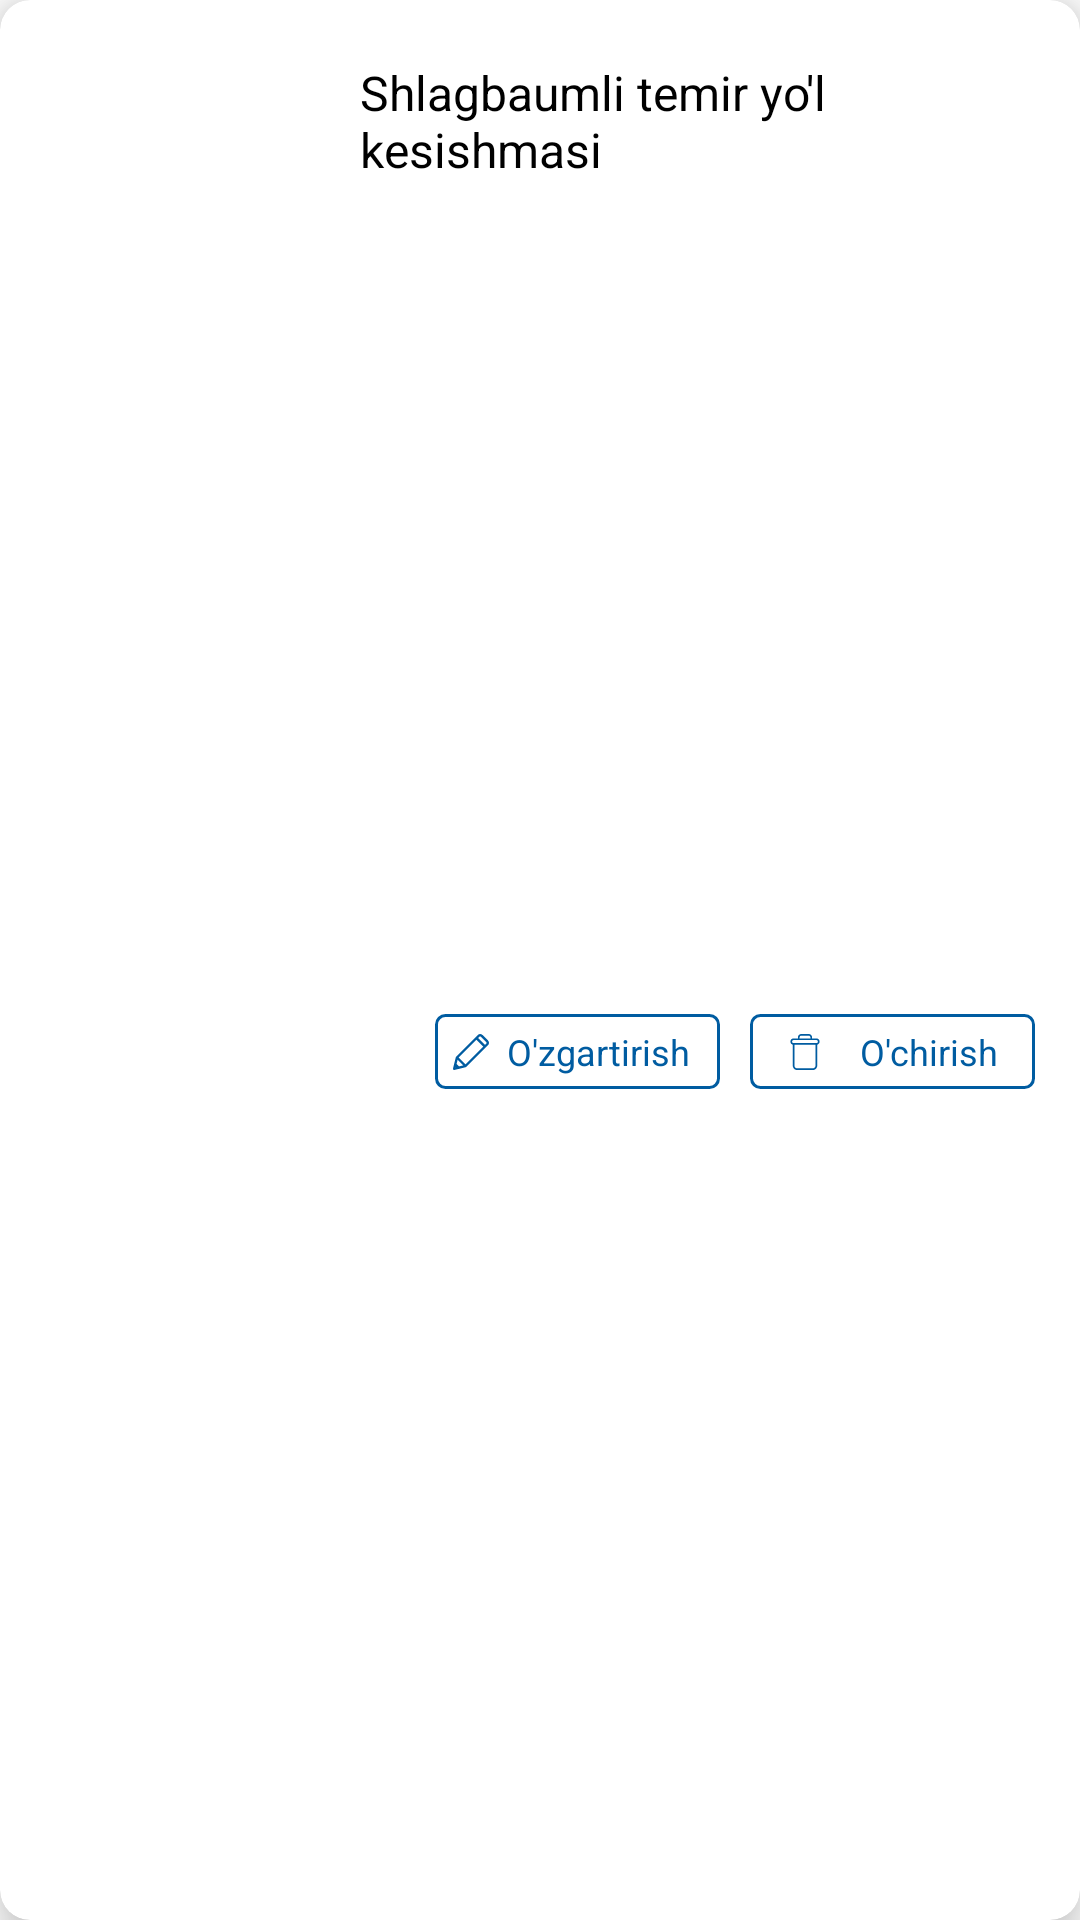

Icons on this 1080w x 1920h Android screen, each with the point to tap as (x=x, y=y):
pencil: (x=471, y=1052)
quti: (x=805, y=1052)
